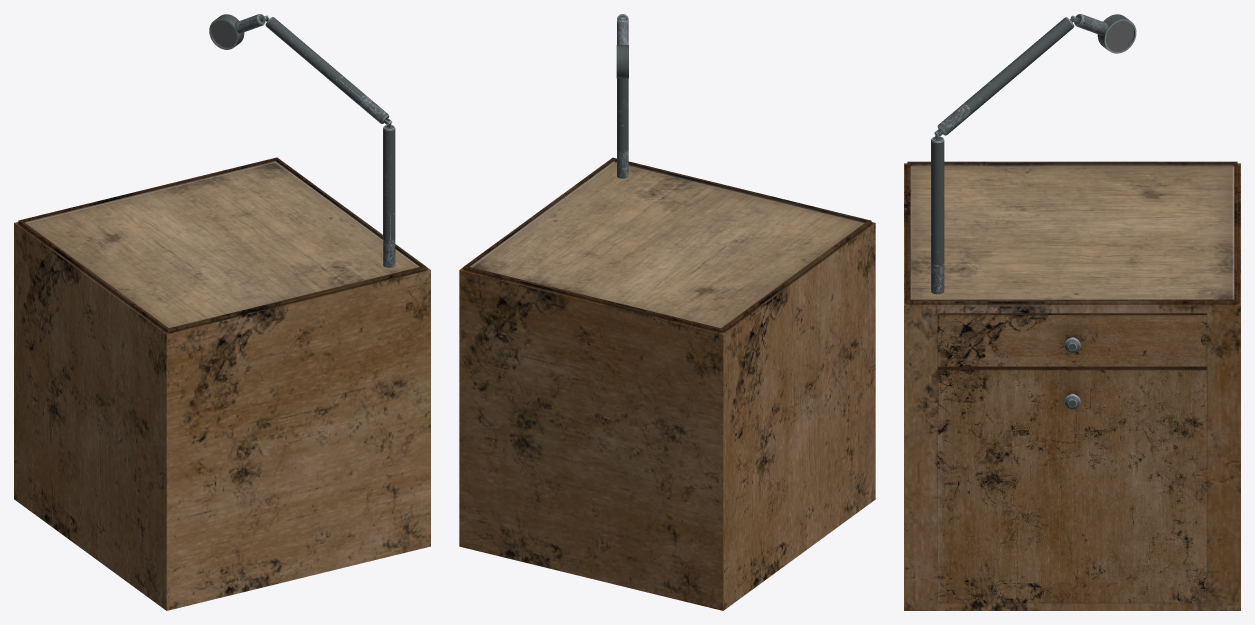
File: jewerly table.fbx
3 views of the same model, side by side, from view 1: azimuth 30°, elevation 25°; view 2: azimuth 150°, elevation 25°; view 3: azimuth 270°, elevation 25° (orthographic). The views are drawn at different scales.
Visible parts, largest first — view 1: low|jewerly table base_low|Dupli|, jewerly table pipe low.003|jewerly table pipe_low|Dupli|, jewerly table pipe low.002|jewerly table pipe_low|Dupli|, jewerly table magnifying glass.001|jewerly table magnifying  (×2); view 2: low|jewerly table base_low|Dupli|, jewerly table pipe low.002|jewerly table pipe_low|Dupli|, jewerly table magnifying glass.001|jewerly table magnifying ; view 3: low|jewerly table base_low|Dupli|, low|jewerly table door_low|Dupli|3, low|jewerly table box_low|Dupli|1, jewerly table pipe low.003|jewerly table pipe_low|Dupli|, jewerly table pipe low.002|jewerly table pipe_low|Dupli|, jewerly table magnifying glass.001|jewerly table magnifying  (×2).
Boxes of the visible parts, <box> form: low|jewerly table base_low|Dupli|: <box>14,157,430,610</box>; jewerly table pipe low.003|jewerly table pipe_low|Dupli|: <box>266,17,387,123</box>; jewerly table pipe low.002|jewerly table pipe_low|Dupli|: <box>383,129,395,267</box>; jewerly table magnifying glass.001|jewerly table magnifying  (×2): <box>209,14,261,49</box>; low|jewerly table base_low|Dupli|: <box>459,157,875,610</box>; jewerly table pipe low.002|jewerly table pipe_low|Dupli|: <box>617,78,628,178</box>; jewerly table magnifying glass.001|jewerly table magnifying : <box>616,21,628,78</box>; low|jewerly table base_low|Dupli|: <box>904,161,1240,610</box>; low|jewerly table door_low|Dupli|3: <box>937,366,1207,603</box>; low|jewerly table box_low|Dupli|1: <box>937,313,1207,366</box>; jewerly table pipe low.003|jewerly table pipe_low|Dupli|: <box>939,17,1073,134</box>; jewerly table pipe low.002|jewerly table pipe_low|Dupli|: <box>931,141,944,294</box>; jewerly table magnifying glass.001|jewerly table magnifying  (×2): <box>1077,14,1136,53</box>.
Bounding box in the file's own units: 105 × 179 × 100.
